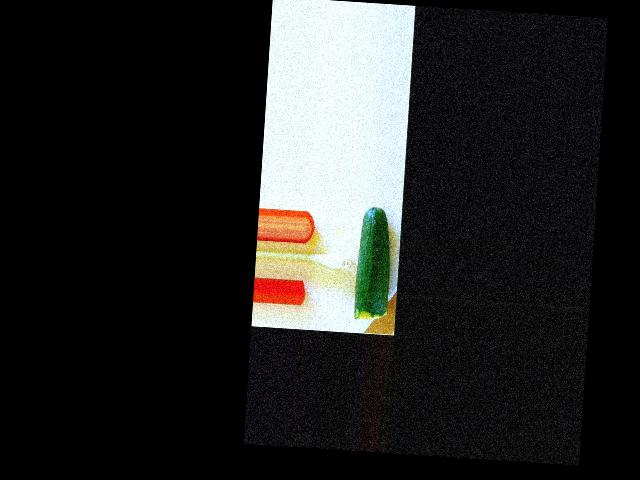cucumber: (354, 205, 394, 321)
